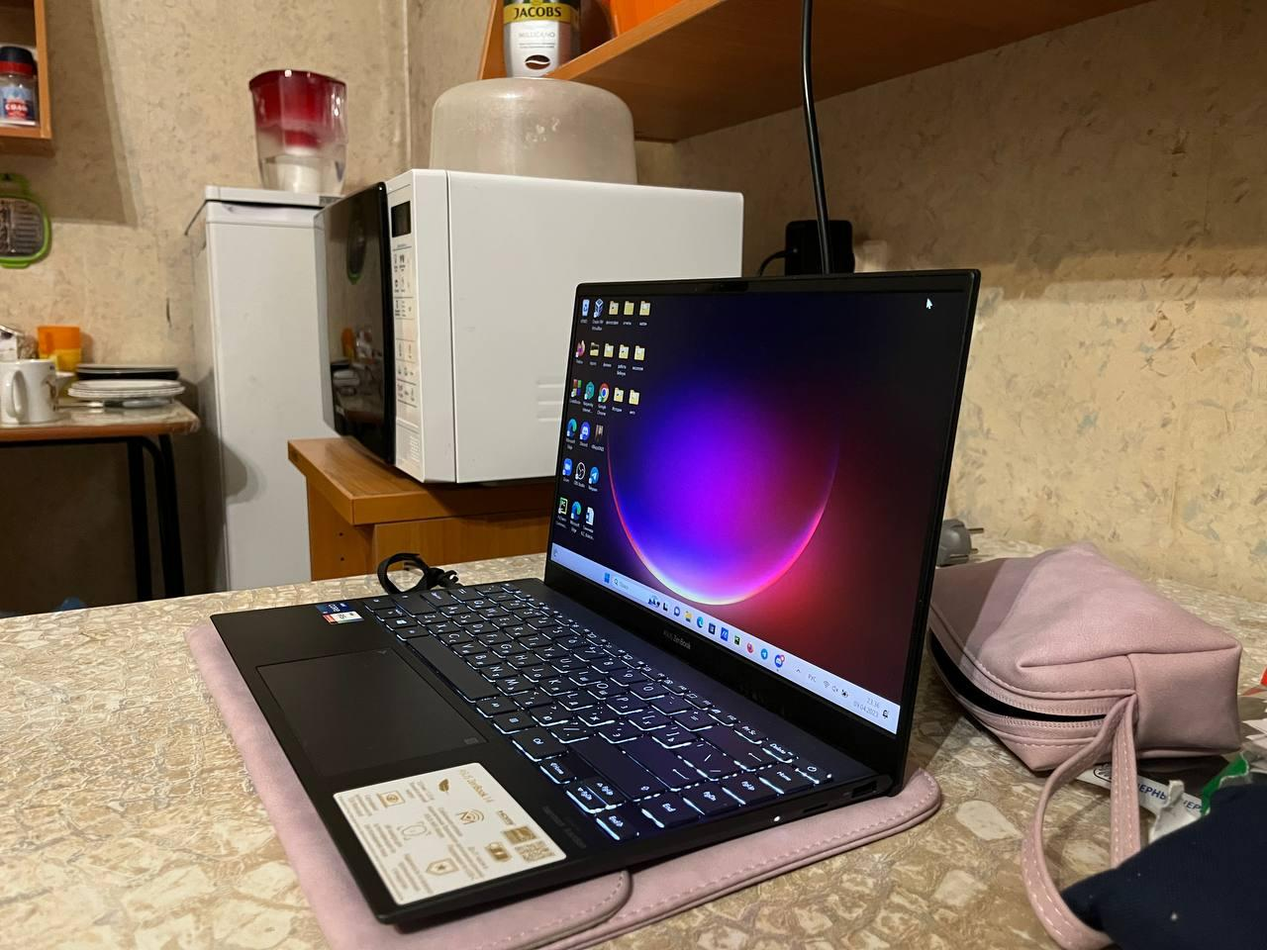monitor: (538, 261, 1001, 802)
